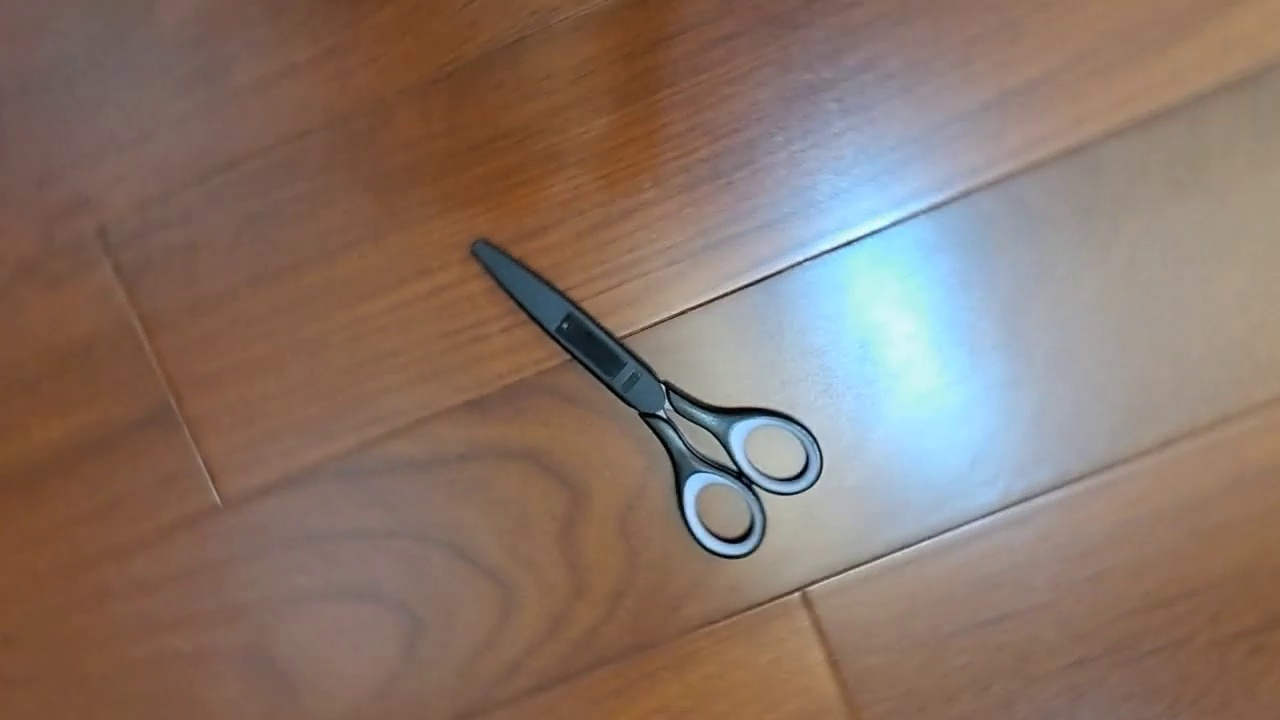scissors: (468, 236, 823, 560)
